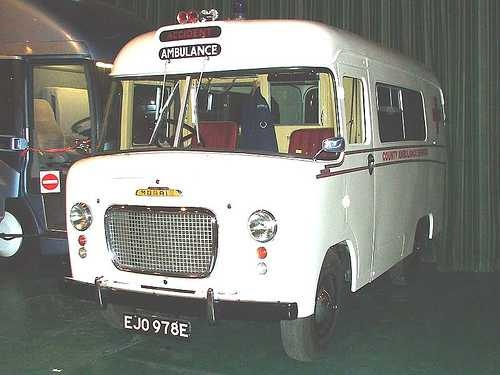Ambulance: (86, 9, 467, 358)
